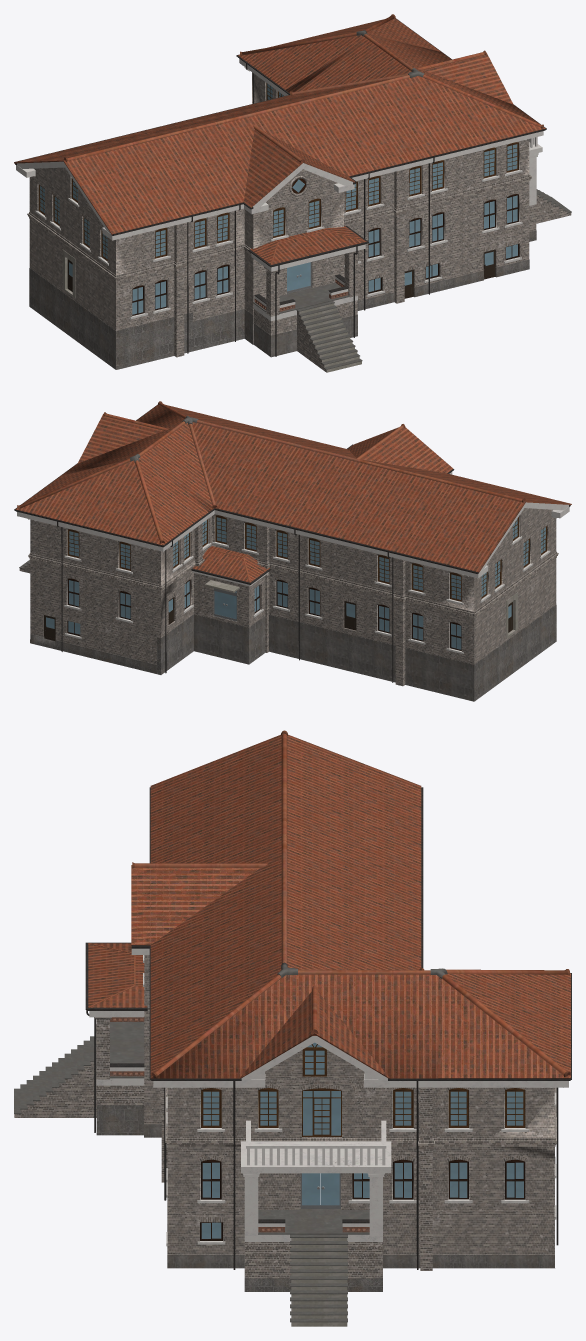
File: speer.glb
3 views of the same model, one above another, from view 1: azimuth 30°, elevation 25°; view 2: azimuth 150°, elevation 25°; view 3: azimuth 270°, elevation 25° (orthographic). The views are drawn at different scales.
Visible parts, largest first — view 1: SpeerHallTrim_SpeerHallTrim_0, SpeerHallBaked_SpeerHallBaked_0; view 2: SpeerHallTrim_SpeerHallTrim_0, SpeerHallBaked_SpeerHallBaked_0; view 3: SpeerHallTrim_SpeerHallTrim_0, SpeerHallBaked_SpeerHallBaked_0.
Part boxes in pixels (x1,y1,x2,y2): SpeerHallTrim_SpeerHallTrim_0: [14, 14, 571, 372]; SpeerHallBaked_SpeerHallBaked_0: [35, 64, 532, 319]; SpeerHallTrim_SpeerHallTrim_0: [14, 401, 571, 701]; SpeerHallBaked_SpeerHallBaked_0: [28, 515, 557, 653]; SpeerHallTrim_SpeerHallTrim_0: [14, 730, 571, 1326]; SpeerHallBaked_SpeerHallBaked_0: [143, 955, 556, 1246].
Size of the model in its own units: 36.07 by 12.41 by 24.75.
2 materials, 2 textured.
